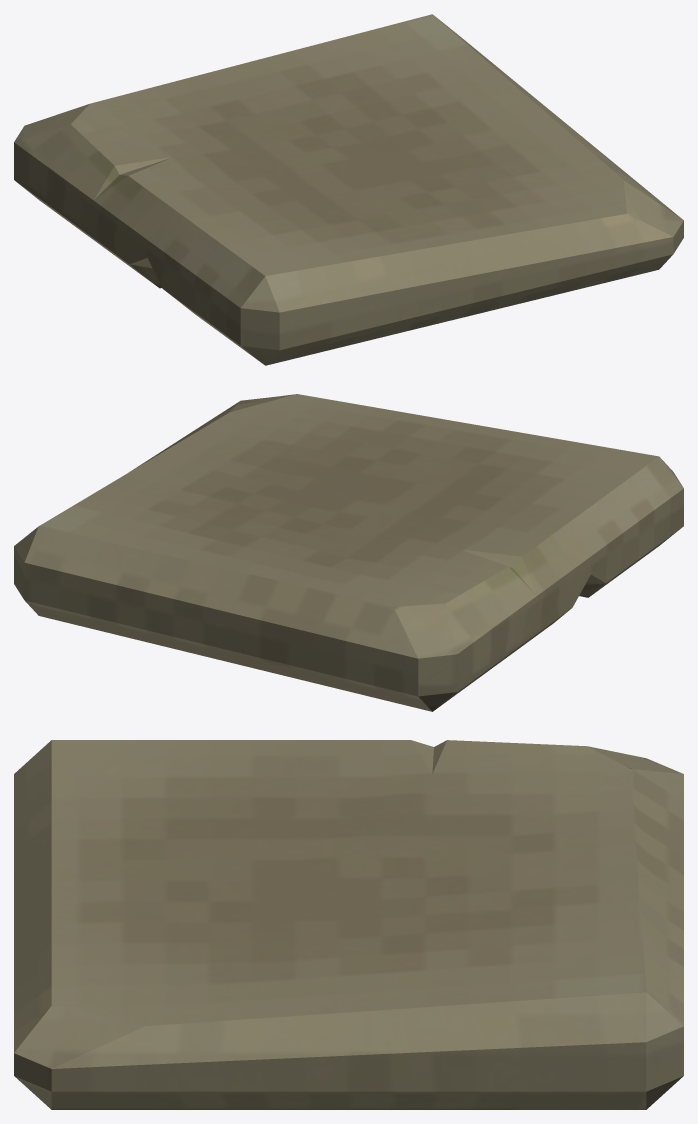
File: Tile_1.fbx
3 renders of one model, top to bottom at view 1: azimuth 30°, elevation 25°; view 2: azimuth 150°, elevation 25°; view 3: azimuth 270°, elevation 25°, orthographic. The views are drawn at different scales.
Parts seen in each view (by area): view 1: Tile_1; view 2: Tile_1; view 3: Tile_1.
Part boxes in pixels (x1=…): Tile_1: x1=14, y1=14, x2=683, y2=365; Tile_1: x1=14, y1=394, x2=683, y2=711; Tile_1: x1=14, y1=740, x2=683, y2=1109.
Bounding box in the file's own units: 231 × 44.67 × 231.
